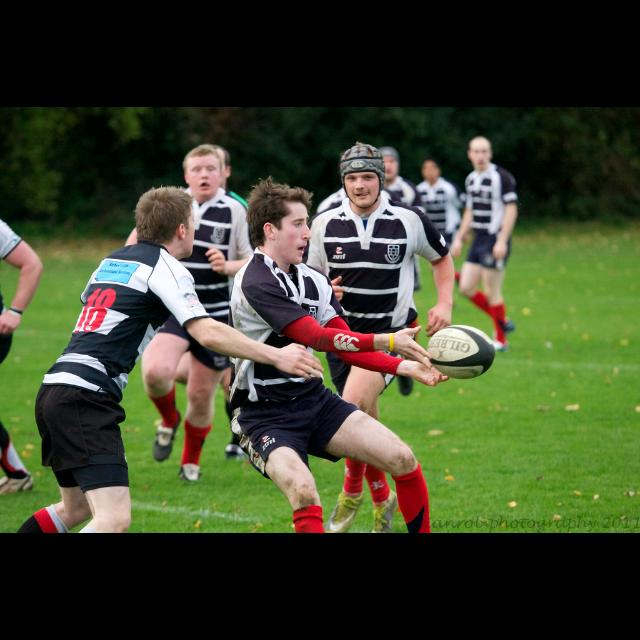Football: (424, 322, 496, 380)
